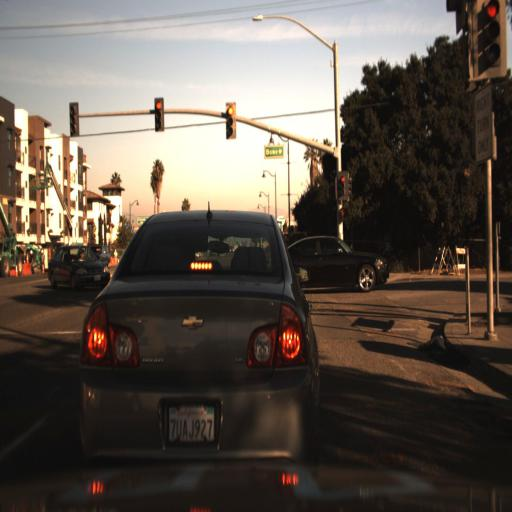car: (69, 201, 328, 503), (289, 223, 394, 295), (45, 236, 110, 293)
trafficLight: (223, 99, 236, 141), (66, 101, 79, 136)
trafficLight-Red: (468, 0, 510, 93), (336, 165, 350, 204), (152, 94, 165, 131)
